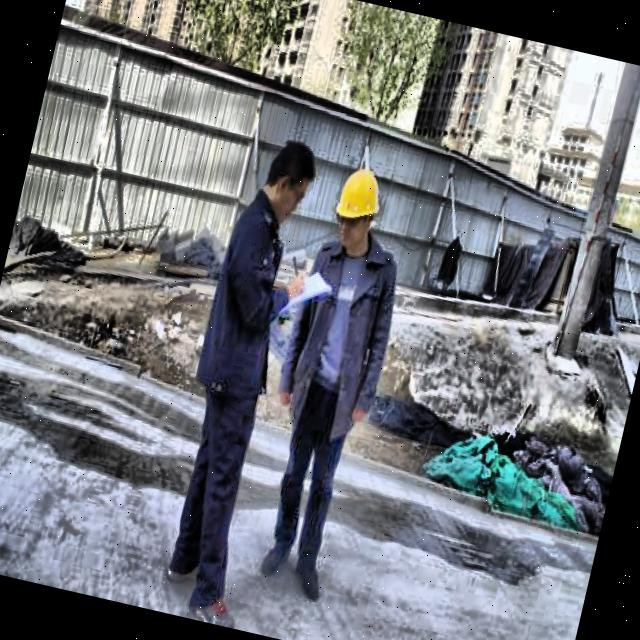helmet: (321, 156, 394, 263)
